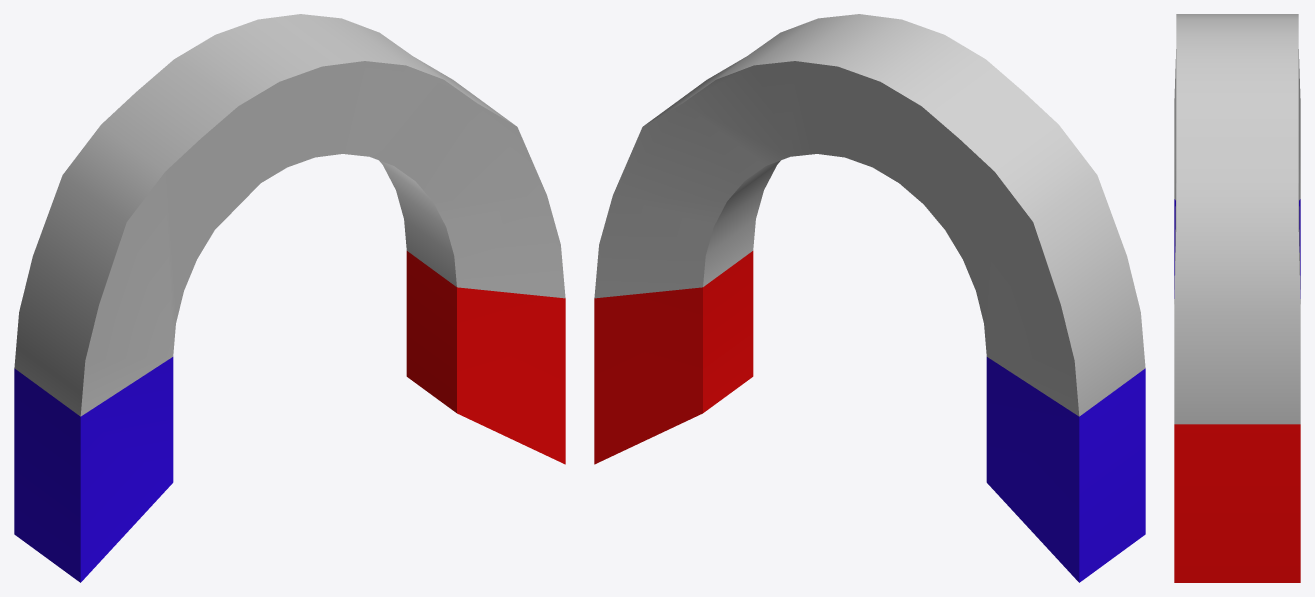
The model's file is item-magnet.glb.
3 renders of one model, left to right at view 1: azimuth 30°, elevation 25°; view 2: azimuth 150°, elevation 25°; view 3: azimuth 270°, elevation 25°, orthographic. The views are drawn at different scales.
Size of the model in its own units: 1.94 by 1.74 by 0.458.
